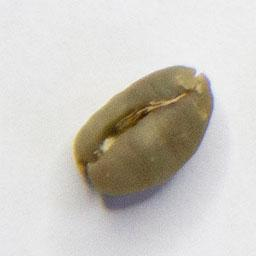peaberry: (70, 60, 217, 200)
